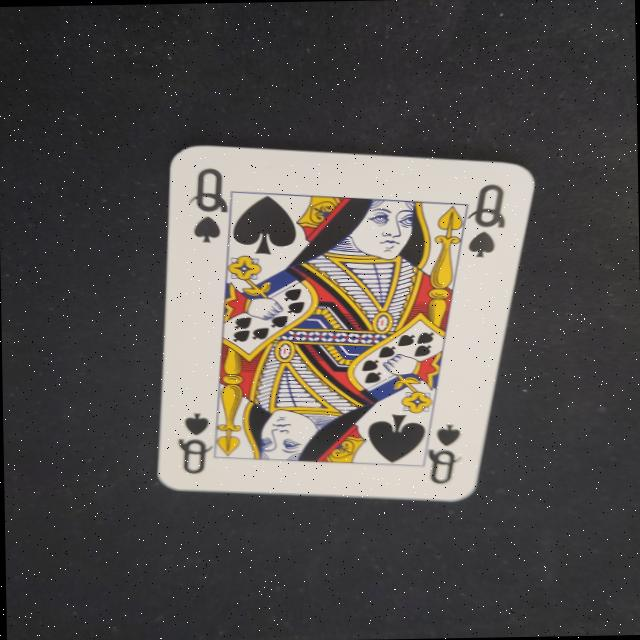Qs: (450, 178, 513, 260), (178, 160, 234, 251), (420, 416, 466, 491), (172, 401, 214, 477)
